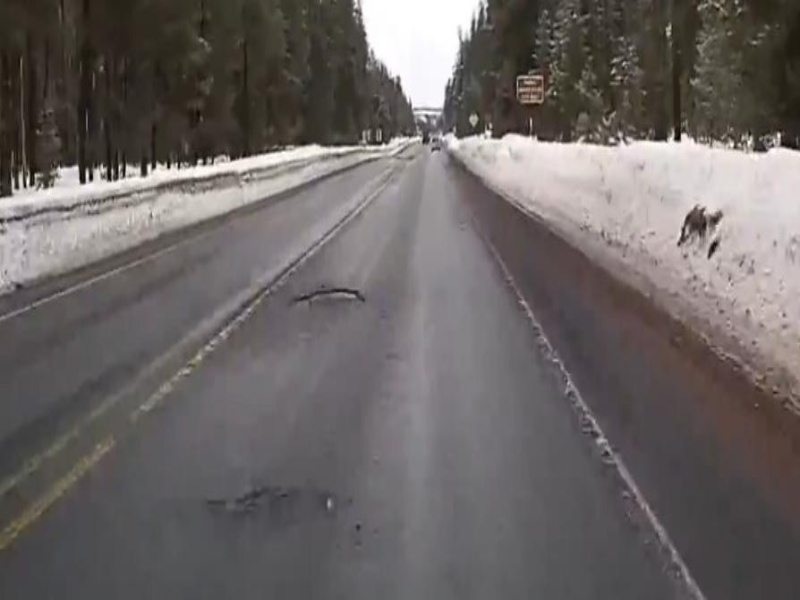pothole: (299, 286, 364, 305)
